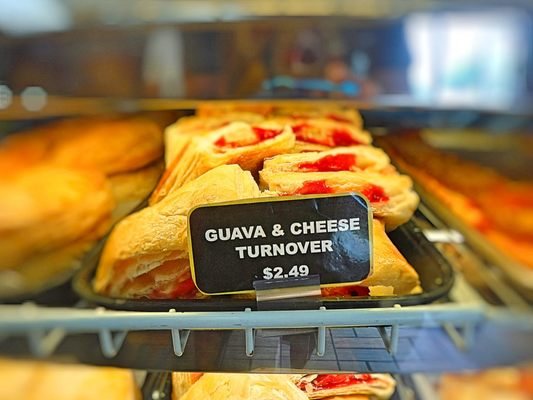soup: (91, 163, 262, 300)
